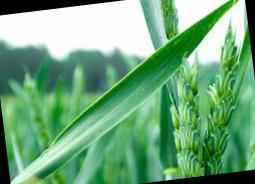Wheat: (30, 16, 212, 177)
